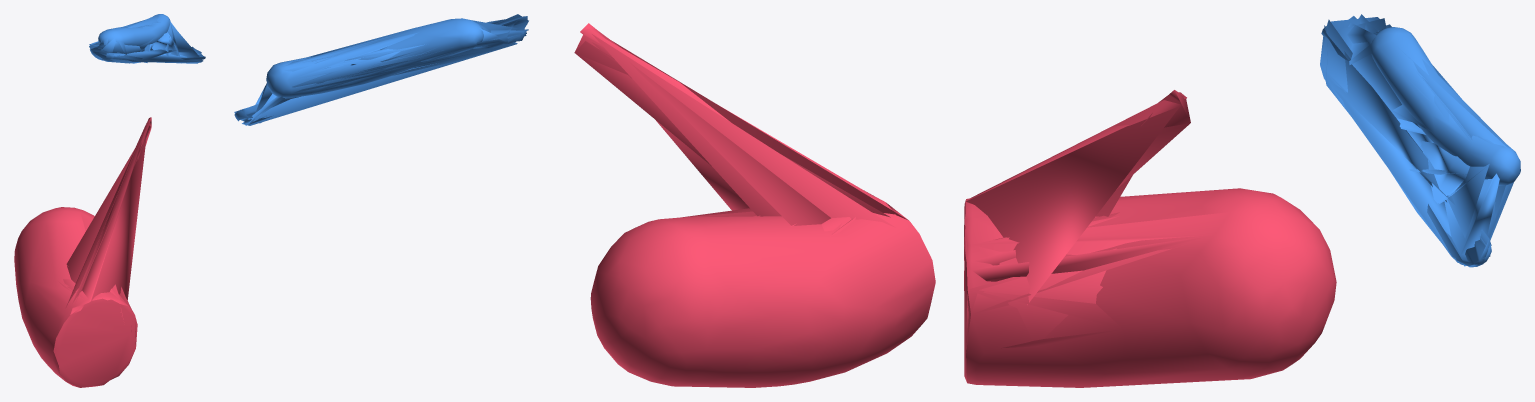
Rendered from organ-circulatory-system.glb.
3 renders of one model, left to right at view 1: azimuth 30°, elevation 25°; view 2: azimuth 150°, elevation 25°; view 3: azimuth 270°, elevation 25°, orthographic. The views are drawn at different scales.
Visible parts, largest first — view 1: Aorta_Arterial_Tree, VenaCava_Venous_Tree; view 2: Aorta_Arterial_Tree, VenaCava_Venous_Tree; view 3: Aorta_Arterial_Tree, VenaCava_Venous_Tree.
Boxes of the visible parts, x1=… form: Aorta_Arterial_Tree: x1=14, y1=117, x2=151, y2=387; VenaCava_Venous_Tree: x1=89, y1=14, x2=205, y2=63; Aorta_Arterial_Tree: x1=574, y1=23, x2=935, y2=387; VenaCava_Venous_Tree: x1=234, y1=14, x2=528, y2=125; Aorta_Arterial_Tree: x1=964, y1=90, x2=1336, y2=387; VenaCava_Venous_Tree: x1=1320, y1=14, x2=1520, y2=267.
Bounding box in the file's own units: 0.3344 × 0.2757 × 0.3005.
